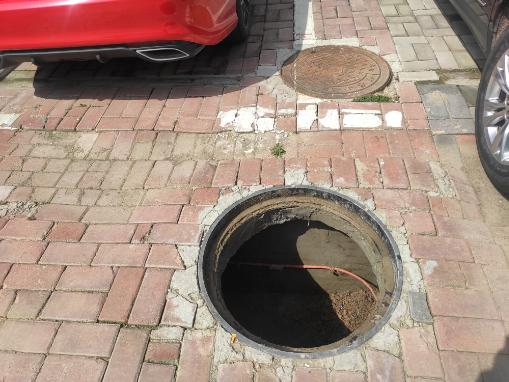wellcover: (174, 175, 421, 376), (272, 40, 401, 110)
